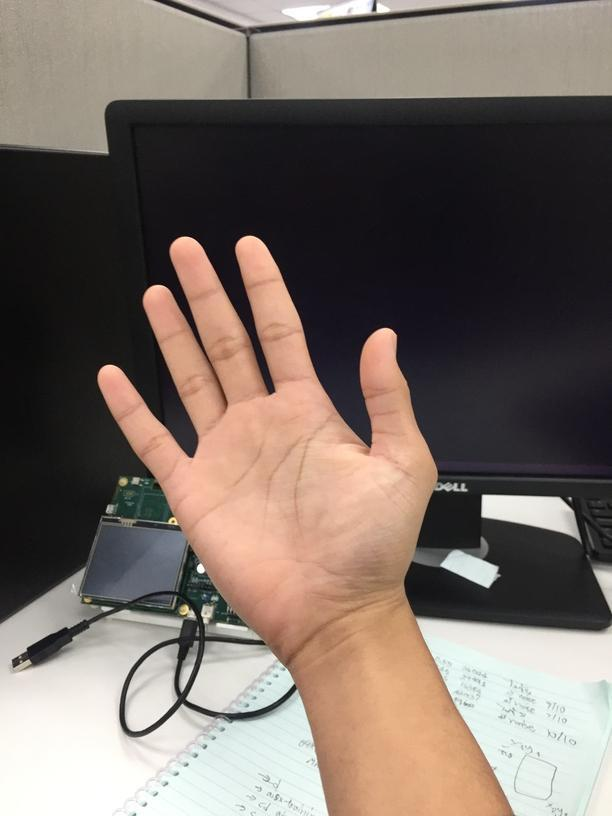hand: (94, 228, 442, 646)
